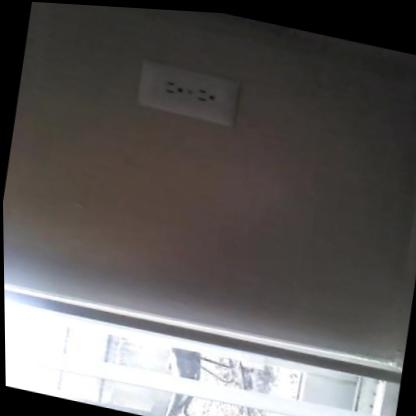OUTLET: (133, 57, 240, 127)
